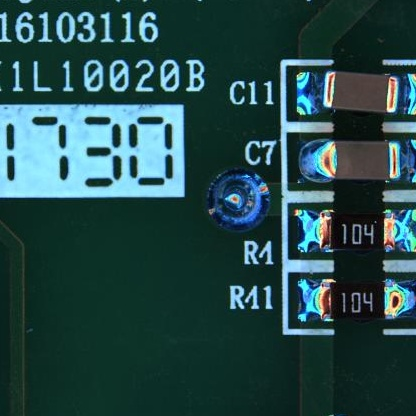spot: (202, 168, 271, 234)
